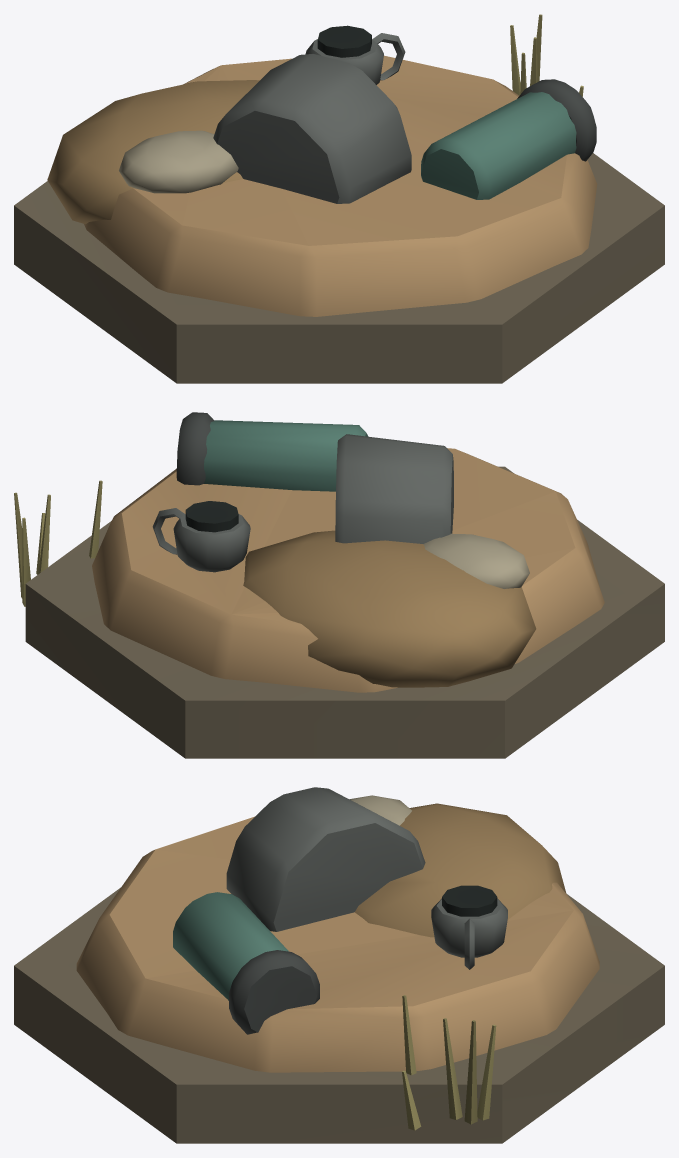
Rendered from lunch_pail_b.glb.
3 views of the same model, one above another, from view 1: azimuth 30°, elevation 25°; view 2: azimuth 150°, elevation 25°; view 3: azimuth 270°, elevation 25° (orthographic).
Visible parts, largest first — view 1: Surface; view 2: Surface; view 3: Surface.
Boxes of the visible parts, x1,y1,x2,y2 form: Surface: (14,14,664,383); Surface: (14,412,664,758); Surface: (14,787,664,1143).
Size of the model in its own units: 2.77 by 1.04 by 3.
